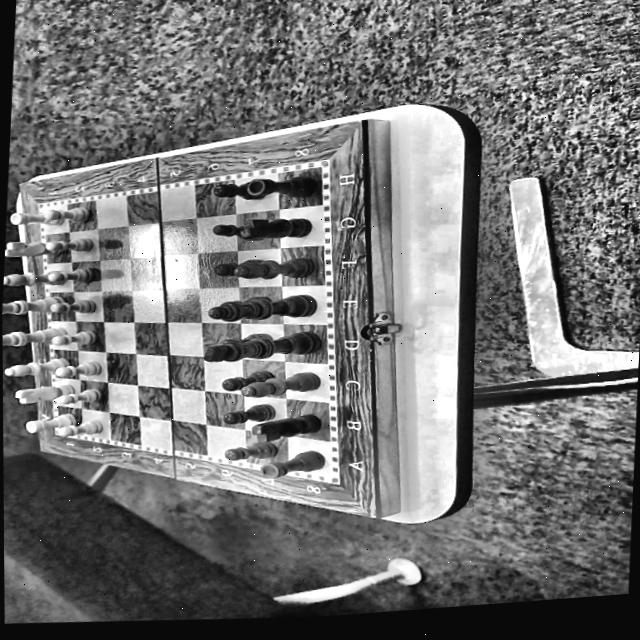chessboard: (44, 167, 332, 477)
